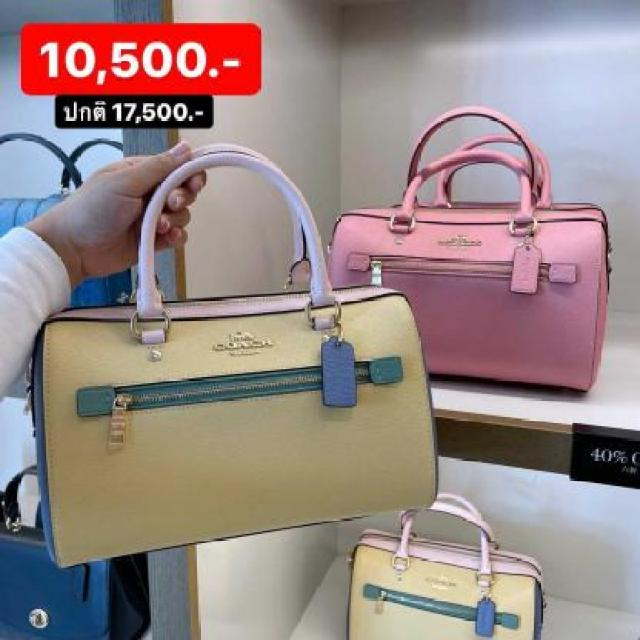Bag: (0, 112, 506, 586), (303, 73, 640, 416), (324, 487, 558, 640)
